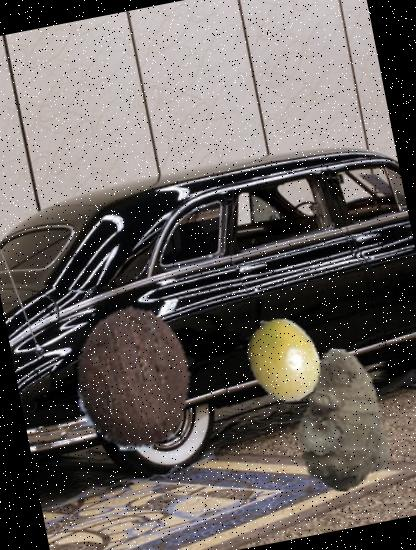Cocos: (46, 290, 221, 465)
Ginger: (261, 336, 416, 502)
Maracuja: (232, 308, 334, 410)
